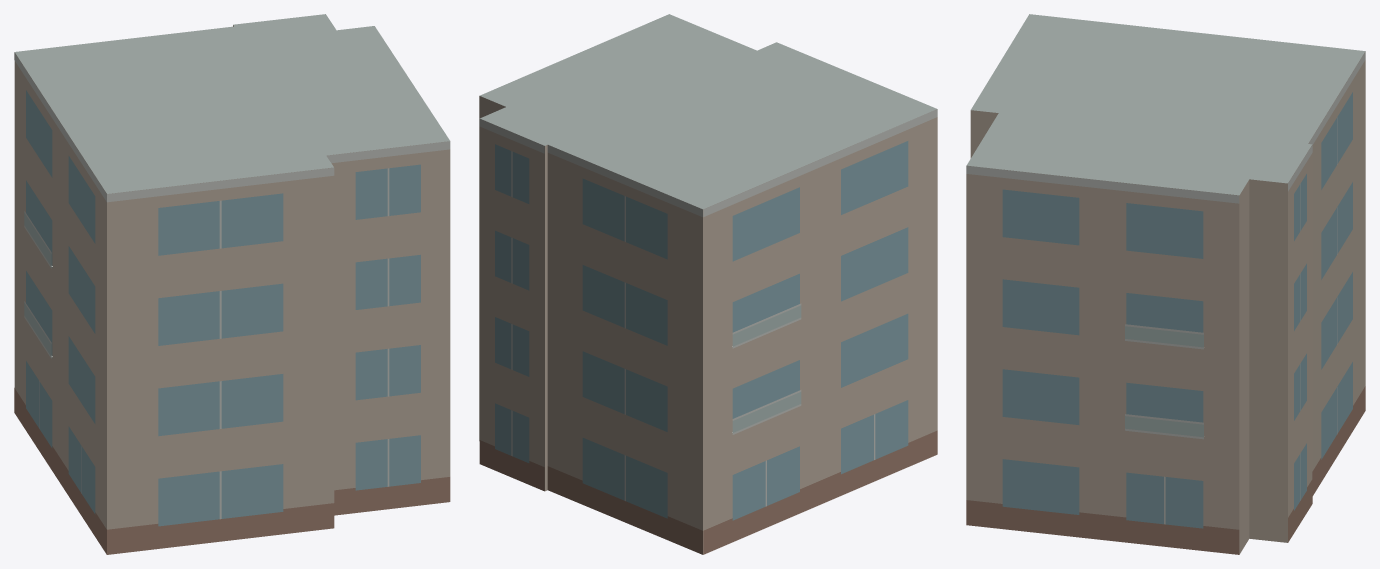
The model's file is survey-upis-32986811.glb.
The picture shows the model from 3 angles, left to right: view 1: azimuth 30°, elevation 25°; view 2: azimuth 150°, elevation 25°; view 3: azimuth 270°, elevation 25°; orthographic projection. The views are drawn at different scales.
Visible parts, largest first — view 1: survey-upis-32986811.tmp; view 2: survey-upis-32986811.tmp; view 3: survey-upis-32986811.tmp.
Boxes of the visible parts, bbox=[...] form: survey-upis-32986811.tmp: bbox=[14, 14, 450, 554]; survey-upis-32986811.tmp: bbox=[479, 14, 937, 554]; survey-upis-32986811.tmp: bbox=[966, 14, 1365, 554].
Size of the model in its own units: 11.48 by 10.6 by 10.68.
